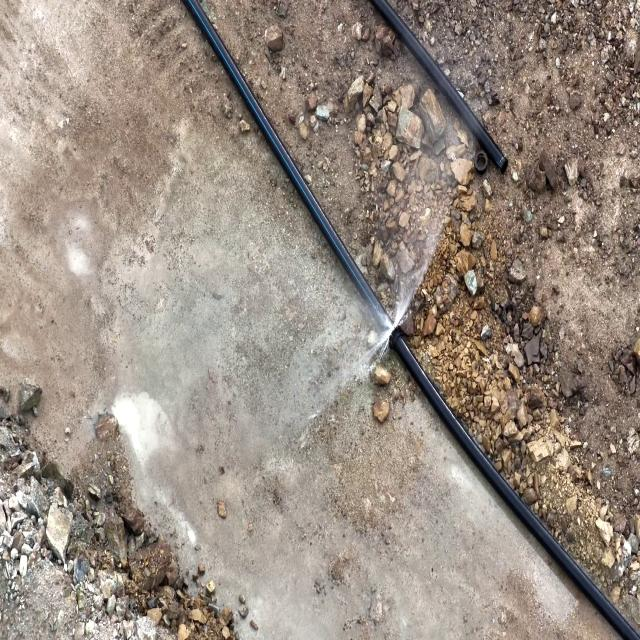leak: (341, 207, 446, 380)
